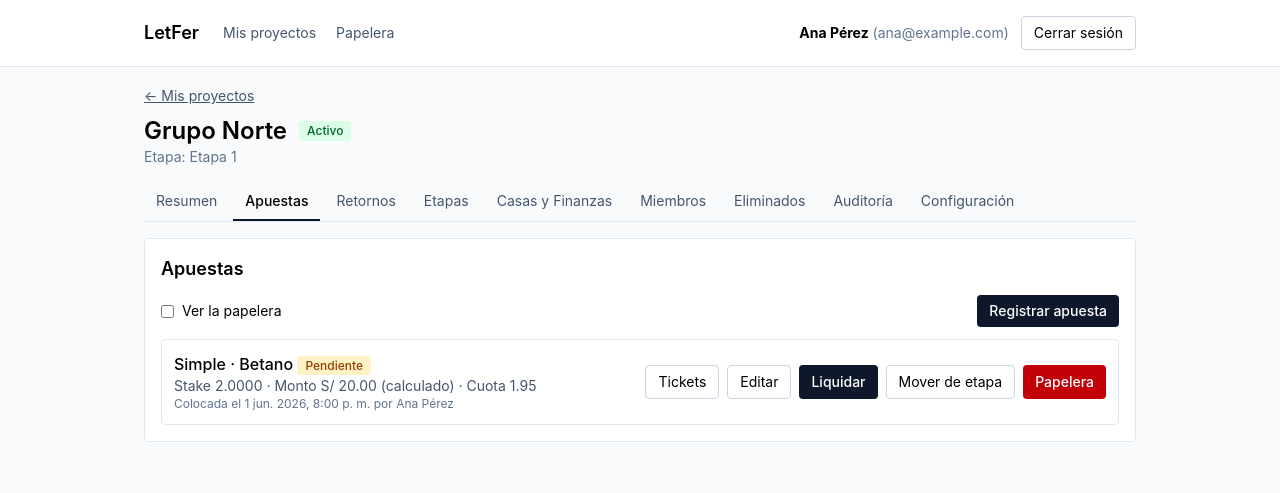
Test: apuestas, selecciones y liquidaciones (§18-§27, §107) › envía una apuesta a la papelera
Click the button "Papelera".
click(1065, 382)  # box [1023,365,1106,399]
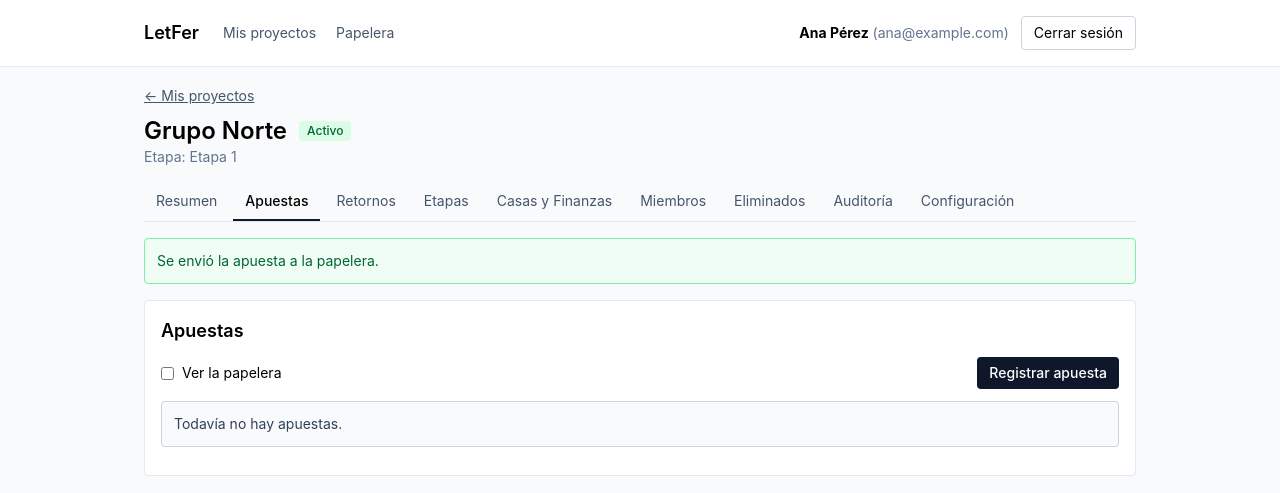
Expected: the text "Se envió la apuesta a la papelera." is shown, [144,238,1136,284]
